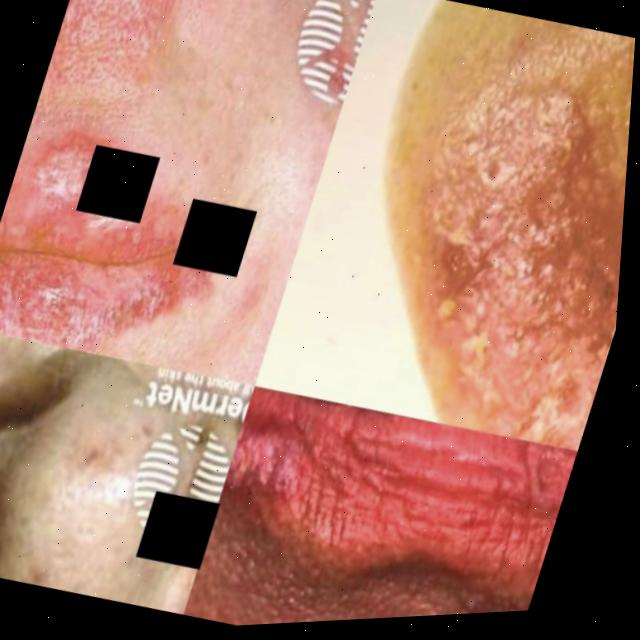lupus-detected: (262, 0, 639, 467), (191, 367, 582, 628), (0, 123, 267, 386), (123, 369, 256, 617), (3, 94, 156, 234), (65, 0, 224, 38), (0, 324, 19, 566)
